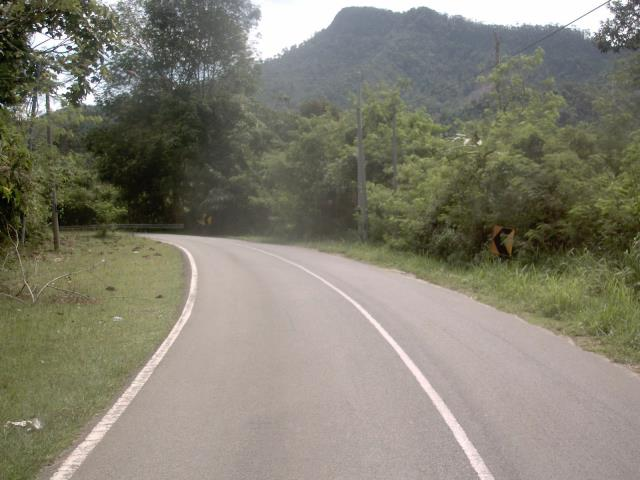traffic_sign: (485, 221, 521, 266)
